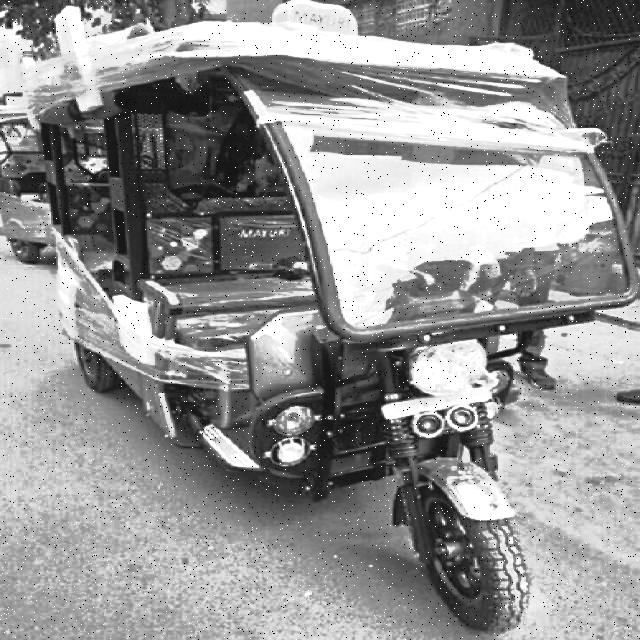Toto: (16, 14, 594, 640)
